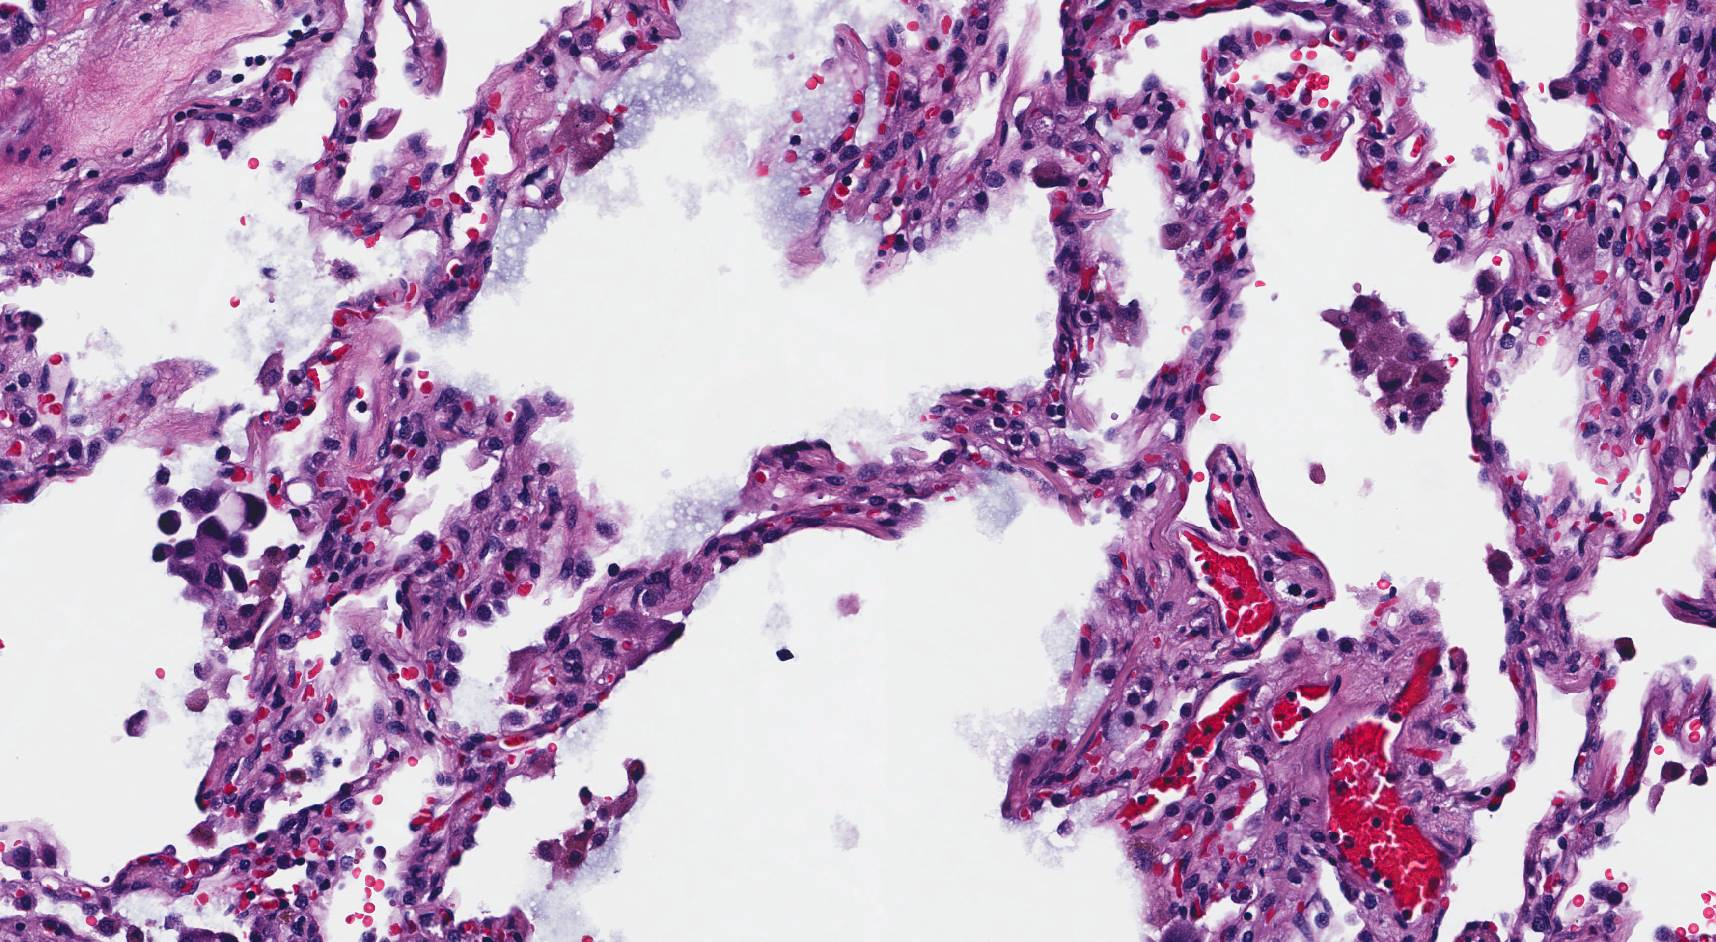stas: (153, 490, 269, 595)
